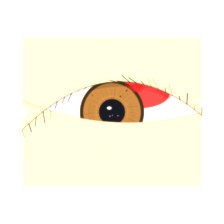hemorrhage_spot: (88, 57, 182, 132)
